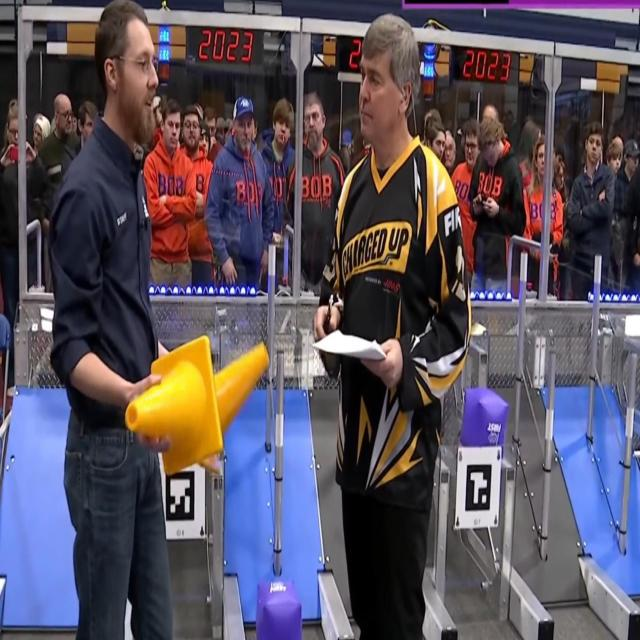frc_cone: (126, 333, 223, 473), (215, 334, 269, 440)
frc_cube: (461, 386, 507, 453), (255, 579, 303, 640)
